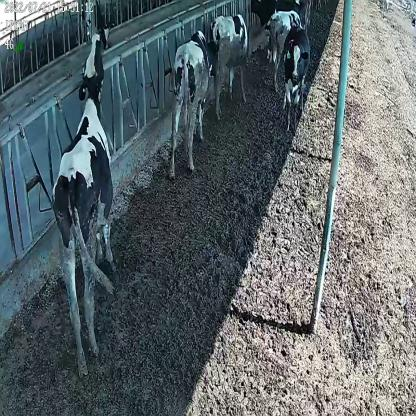cow: (50, 34, 116, 376), (169, 27, 218, 178), (209, 10, 248, 105), (281, 26, 309, 129), (268, 10, 302, 85)
